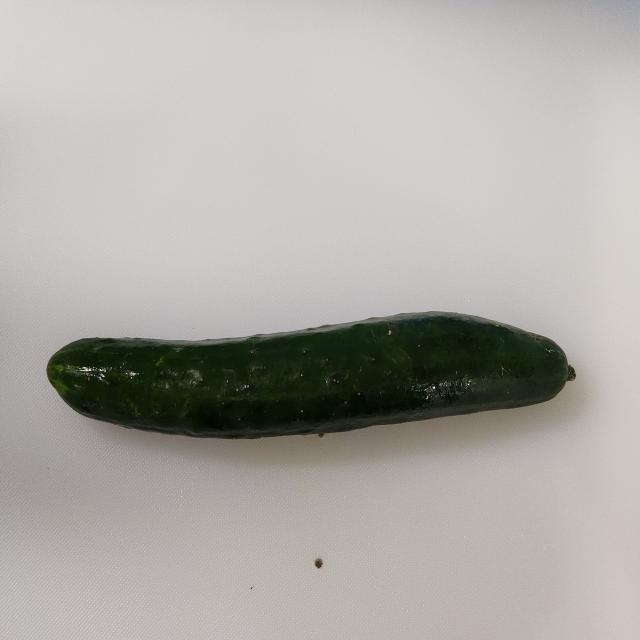cucumber: (46, 309, 576, 439)
